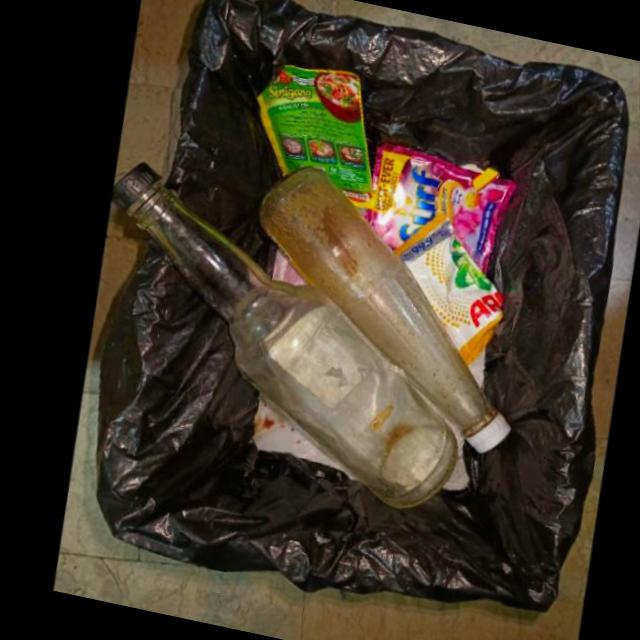chai_thuy_tinh: (110, 159, 456, 506), (257, 163, 507, 450)
goi_nhua_nho: (363, 141, 516, 272), (256, 62, 375, 207), (392, 210, 501, 364)
